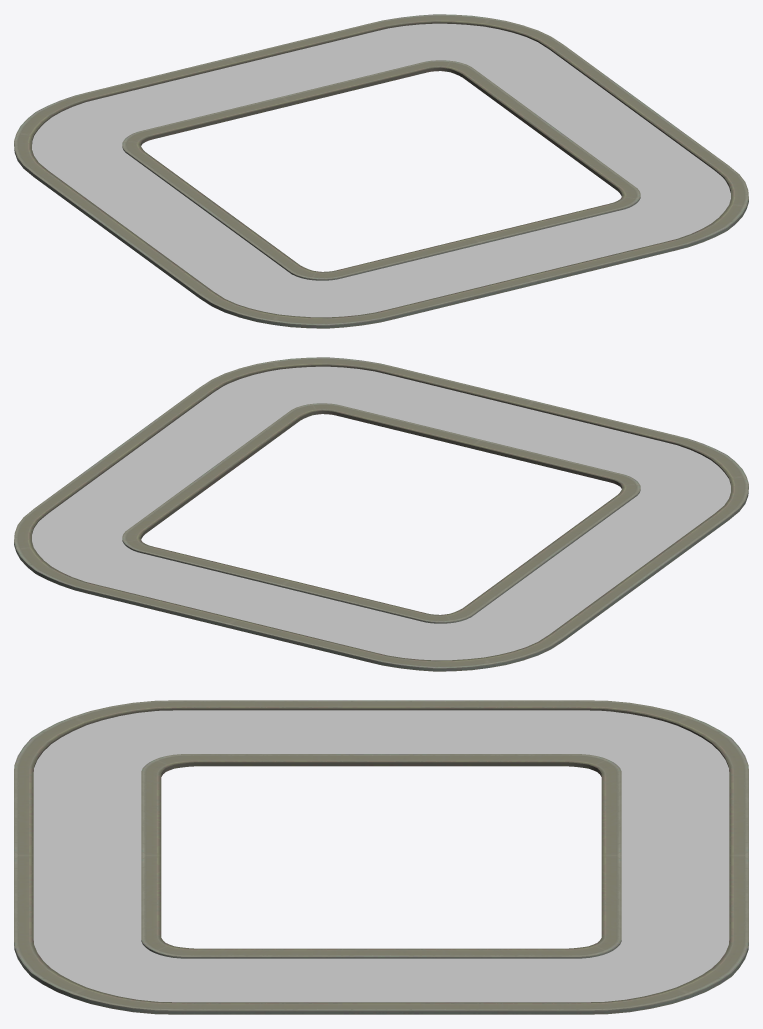
The model's file is pref_sm_garden_line07_lv2.fbx.
3 views of the same model, one above another, from view 1: azimuth 30°, elevation 25°; view 2: azimuth 150°, elevation 25°; view 3: azimuth 270°, elevation 25° (orthographic). The views are drawn at different scales.
Visible parts, largest first — view 1: sm_garden_line07a_lv2, sm_garden_line07_lv2; view 2: sm_garden_line07a_lv2, sm_garden_line07_lv2; view 3: sm_garden_line07a_lv2, sm_garden_line07_lv2.
Part boxes in pixels (bbox=[...]): sm_garden_line07a_lv2: bbox=[32, 23, 730, 317]; sm_garden_line07_lv2: bbox=[14, 14, 748, 328]; sm_garden_line07a_lv2: bbox=[32, 366, 730, 660]; sm_garden_line07_lv2: bbox=[14, 357, 748, 671]; sm_garden_line07a_lv2: bbox=[33, 710, 729, 1002]; sm_garden_line07_lv2: bbox=[14, 700, 748, 1014].
Size of the model in its own units: 19.83 by 0.1191 by 19.83.
